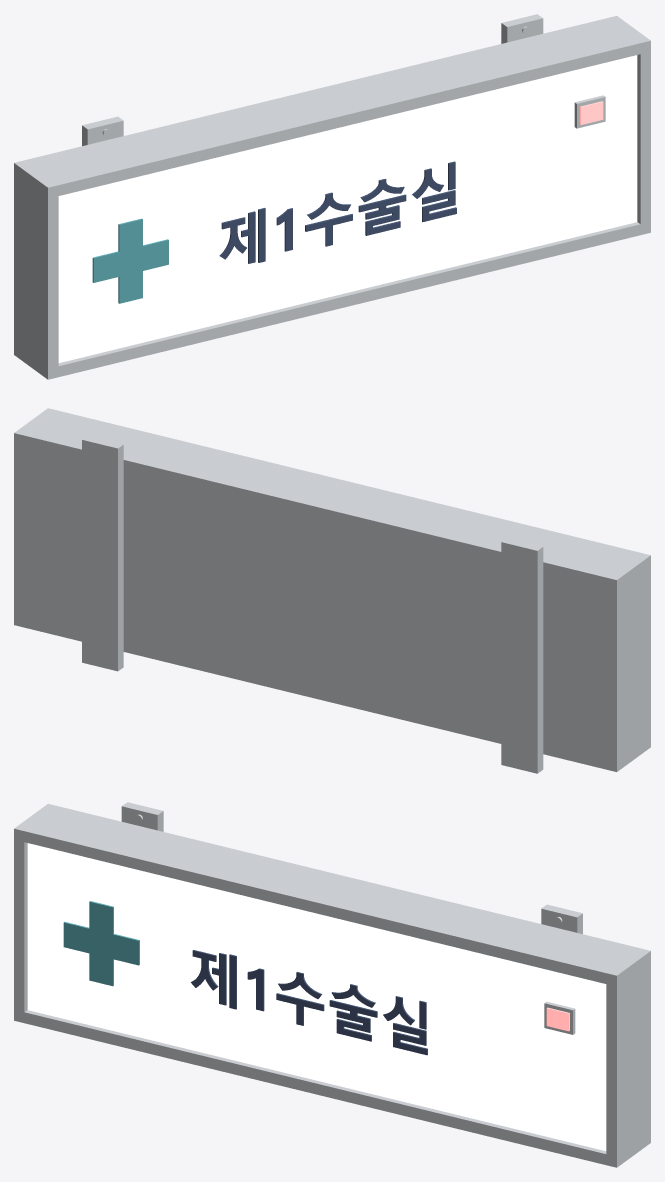
Rendered from operaitingroom_sign_v1.fbx.
The picture shows the model from 3 angles, top to bottom: view 1: azimuth 30°, elevation 25°; view 2: azimuth 150°, elevation 25°; view 3: azimuth 330°, elevation 25°; orthographic projection.
Parts seen in each view (by area): view 1: 01_OR1_Sign_Intact_Mesh; view 2: 01_OR1_Sign_Intact_Mesh; view 3: 01_OR1_Sign_Intact_Mesh.
Part boxes in pixels (x1=…): 01_OR1_Sign_Intact_Mesh: x1=14, y1=14, x2=650, y2=379; 01_OR1_Sign_Intact_Mesh: x1=14, y1=408, x2=650, y2=773; 01_OR1_Sign_Intact_Mesh: x1=14, y1=802, x2=650, y2=1167.
Bounding box in the file's own units: 92 × 32.5 × 10.55.
